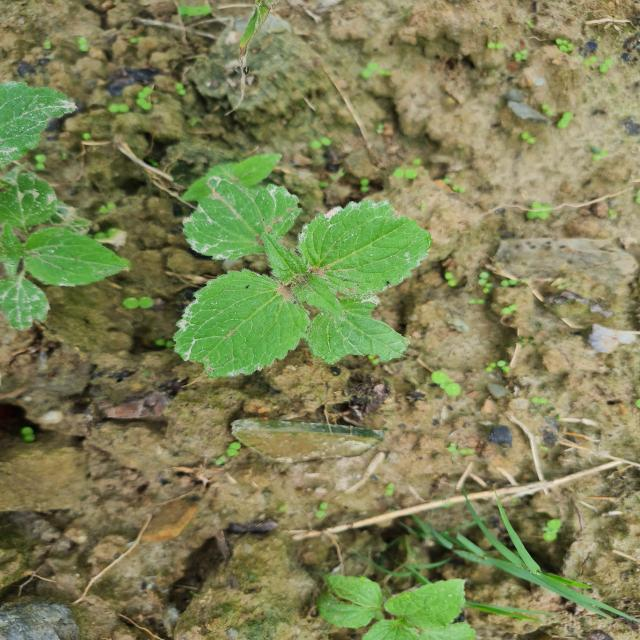weed: (152, 151, 489, 405), (275, 506, 640, 640), (0, 81, 72, 382)
